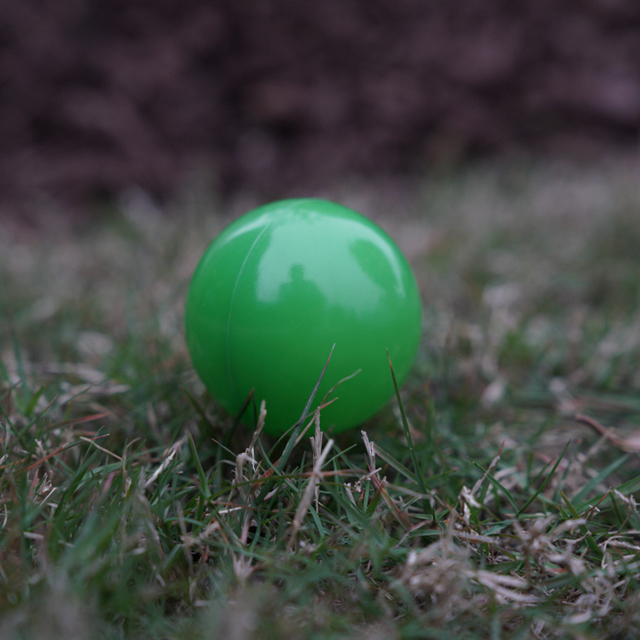Ball: (190, 198, 421, 438)
